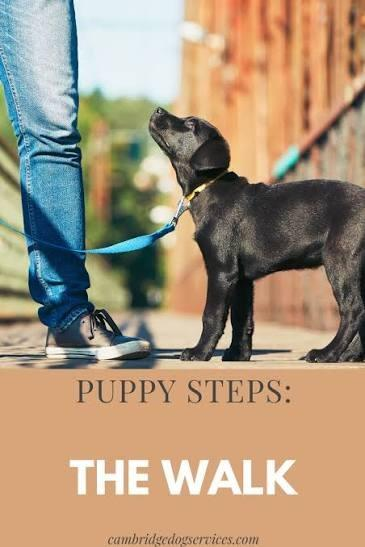non-dog: (0, 0, 150, 362)
puppy-dog: (146, 105, 365, 366)
